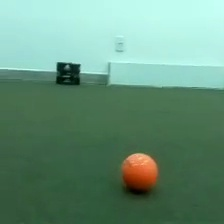ball: (119, 150, 161, 196)
goal: (104, 59, 224, 90)
robot: (53, 59, 82, 86)
